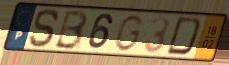3: (142, 14, 172, 56)
6: (87, 12, 114, 51)
B: (52, 10, 90, 52)
D: (164, 15, 204, 57)
G: (112, 13, 146, 53)
S: (27, 8, 62, 50)
